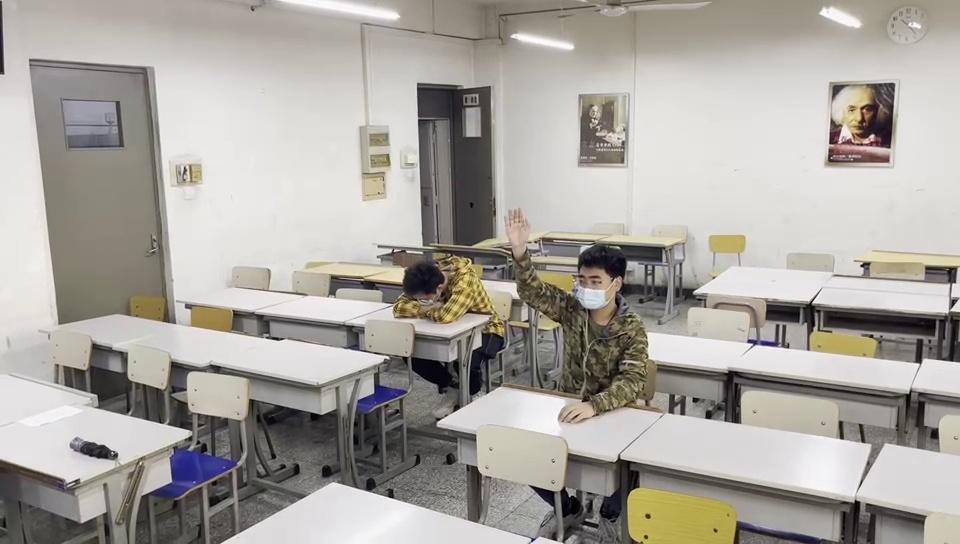sleep: (392, 260, 482, 320)
study: (504, 211, 657, 427)
